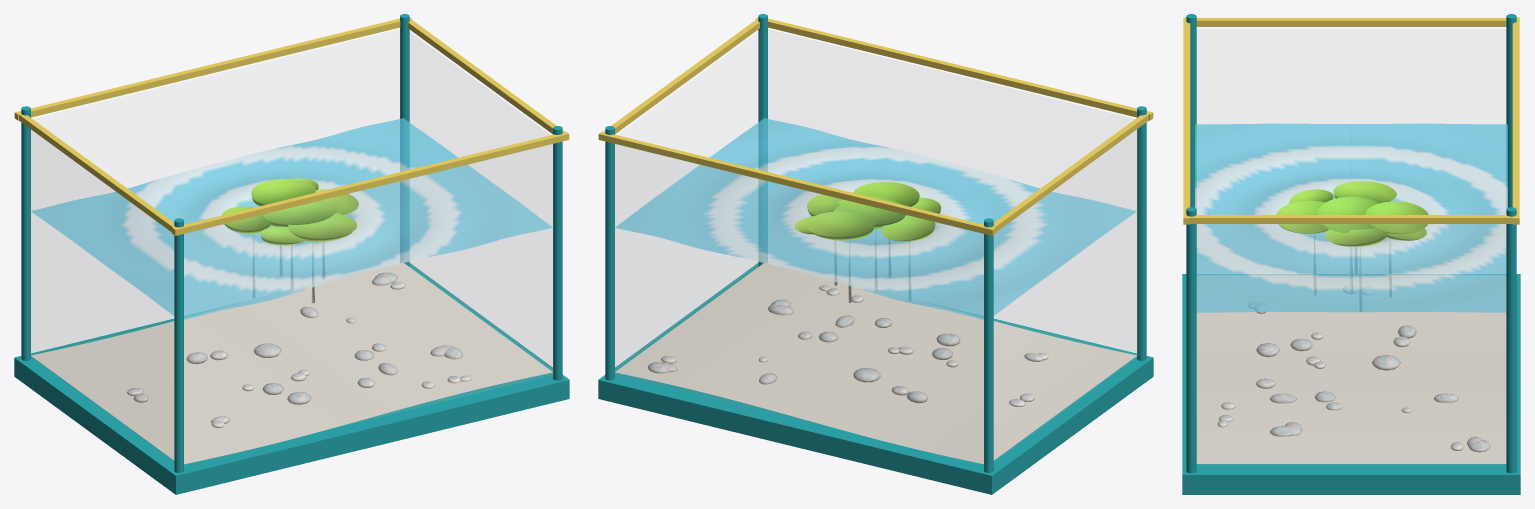
The picture shows the model from 3 angles, left to right: view 1: azimuth 30°, elevation 25°; view 2: azimuth 150°, elevation 25°; view 3: azimuth 270°, elevation 25°; orthographic projection. The views are drawn at different scales.
Parts seen in each view (by area): view 1: Duckweed_Glass, Duckweed_Sand, Duckweed_WaterSurface, Duckweed_Base, Duckweed_TopRim, Duckweed_Plant, Duckweed_Pillar_-1_-1, Duckweed_Pillar_1_-1, Duckweed_Pillar_-1_1, Duckweed_Pillar_1_1; view 2: Duckweed_Glass, Duckweed_Sand, Duckweed_WaterSurface, Duckweed_Base, Duckweed_TopRim, Duckweed_Plant, Duckweed_Pillar_-1_1, Duckweed_Pillar_1_1, Duckweed_Pillar_-1_-1, Duckweed_Pillar_1_-1; view 3: Duckweed_Glass, Duckweed_Sand, Duckweed_WaterSurface, Duckweed_Base, Duckweed_TopRim, Duckweed_Plant, Duckweed_Pillar_1_-1, Duckweed_Pillar_1_1, Duckweed_Pillar_-1_-1, Duckweed_Pillar_-1_1.
Part boxes in pixels (x1,y1,x2,y2): Duckweed_Glass: [29, 30, 552, 463]; Duckweed_Sand: [31, 263, 552, 464]; Duckweed_WaterSurface: [31, 118, 552, 319]; Duckweed_Base: [14, 263, 569, 494]; Duckweed_TopRim: [14, 17, 569, 235]; Duckweed_Plant: [221, 178, 358, 303]; Duckweed_Pillar_-1_-1: [174, 218, 183, 472]; Duckweed_Pillar_1_-1: [553, 126, 562, 380]; Duckweed_Pillar_-1_1: [21, 106, 30, 360]; Duckweed_Pillar_1_1: [400, 14, 409, 266]; Duckweed_Glass: [615, 30, 1138, 463]; Duckweed_Sand: [615, 263, 1136, 464]; Duckweed_WaterSurface: [615, 118, 1136, 319]; Duckweed_Base: [598, 263, 1153, 494]; Duckweed_TopRim: [598, 17, 1153, 235]; Duckweed_Plant: [794, 182, 941, 302]; Duckweed_Pillar_-1_1: [984, 218, 993, 472]; Duckweed_Pillar_1_1: [605, 126, 614, 380]; Duckweed_Pillar_-1_-1: [1137, 106, 1146, 360]; Duckweed_Pillar_1_-1: [758, 14, 767, 266]; Duckweed_Glass: [1197, 29, 1505, 465]; Duckweed_Sand: [1196, 275, 1506, 463]; Duckweed_WaterSurface: [1195, 123, 1507, 312]; Duckweed_Base: [1182, 274, 1520, 494]; Duckweed_TopRim: [1183, 17, 1519, 224]; Duckweed_Plant: [1276, 181, 1428, 311]; Duckweed_Pillar_1_-1: [1186, 207, 1196, 473]; Duckweed_Pillar_1_1: [1506, 207, 1516, 473]; Duckweed_Pillar_-1_-1: [1186, 14, 1196, 208]; Duckweed_Pillar_-1_1: [1506, 14, 1516, 208].
Size of the model in its own units: 2.08 by 1.36 by 1.48.
